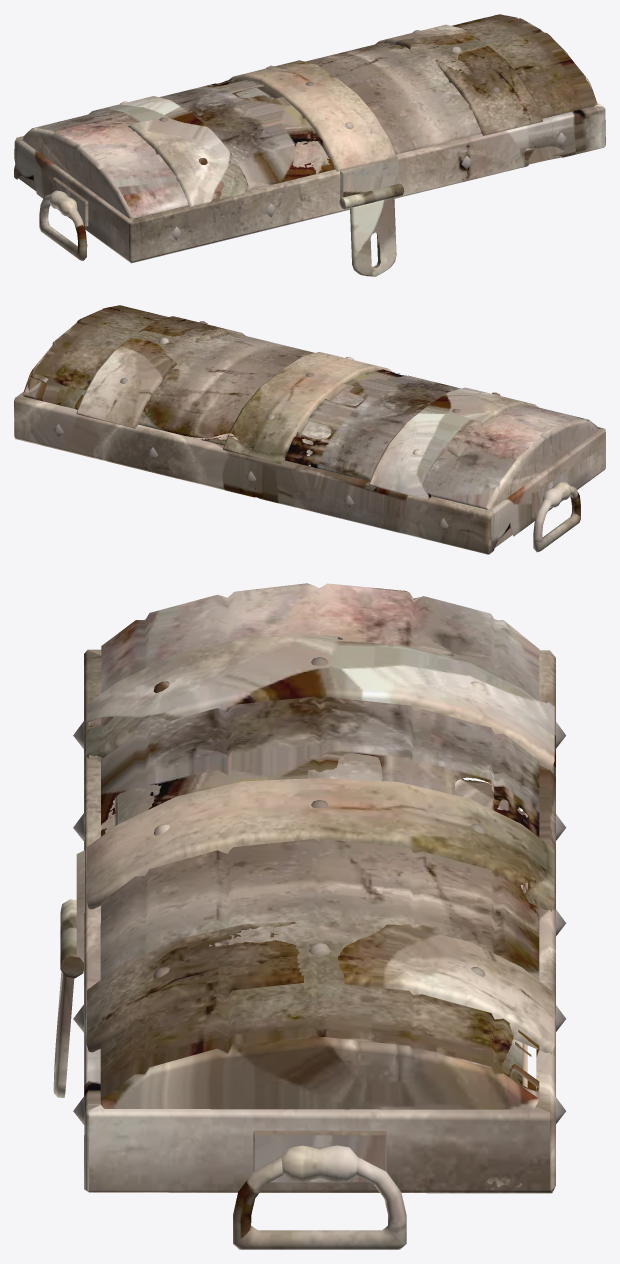
3 views of the same model, one above another, from view 1: azimuth 30°, elevation 25°; view 2: azimuth 150°, elevation 25°; view 3: azimuth 270°, elevation 25° (orthographic). The views are drawn at different scales.
Parts seen in each view (by area): view 1: SM_Lougrims_Shrine_Skull_01_LOD0; view 2: SM_Lougrims_Shrine_Skull_01_LOD0; view 3: SM_Lougrims_Shrine_Skull_01_LOD0.
Boxes of the visible parts, <box> form: SM_Lougrims_Shrine_Skull_01_LOD0: <box>14,14,605,276</box>; SM_Lougrims_Shrine_Skull_01_LOD0: <box>14,305,605,554</box>; SM_Lougrims_Shrine_Skull_01_LOD0: <box>53,583,566,1249</box>.
Size of the model in its own units: 1.85 by 0.5076 by 0.8049.
